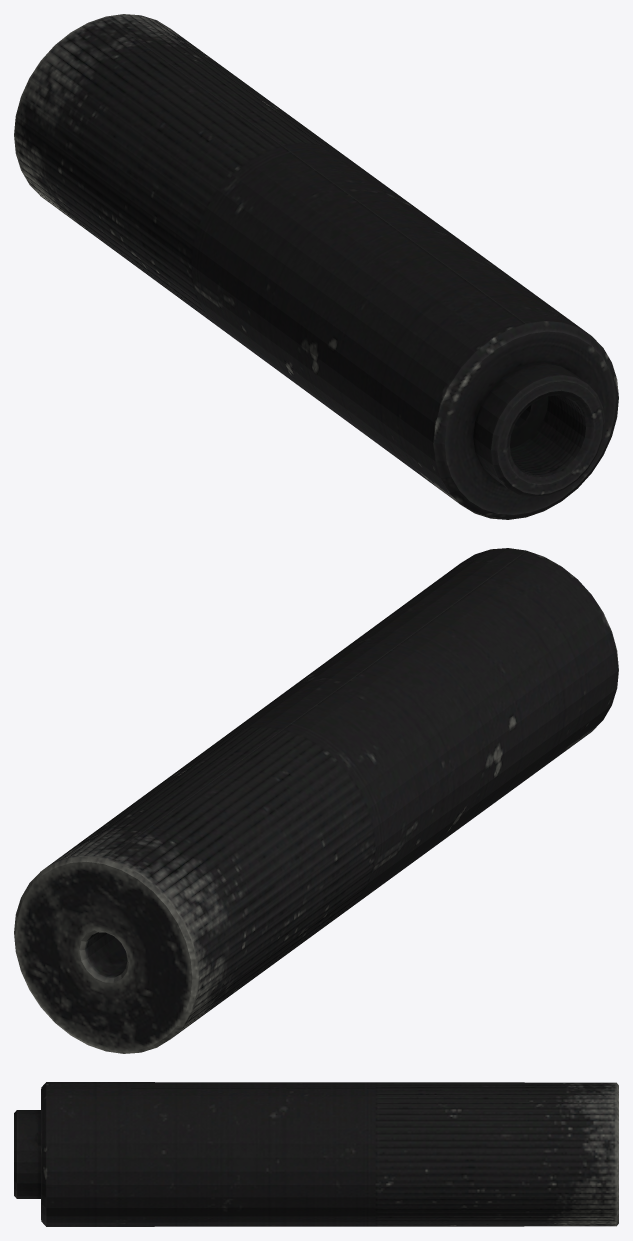
3 renders of one model, top to bottom at view 1: azimuth 30°, elevation 25°; view 2: azimuth 150°, elevation 25°; view 3: azimuth 270°, elevation 25°, orthographic. The views are drawn at different scales.
Visible parts, largest first — view 1: TW_5a9fbb74a2750c0032157181_PZ_Import; view 2: TW_5a9fbb74a2750c0032157181_PZ_Import; view 3: TW_5a9fbb74a2750c0032157181_PZ_Import.
Part boxes in pixels (<box>): TW_5a9fbb74a2750c0032157181_PZ_Import: <box>14,14,618,519</box>; TW_5a9fbb74a2750c0032157181_PZ_Import: <box>14,548,618,1053</box>; TW_5a9fbb74a2750c0032157181_PZ_Import: <box>14,1082,618,1226</box>.
Bounding box in the file's own units: 0.0249 × 0.104 × 0.0249.
1 material, 1 textured.
